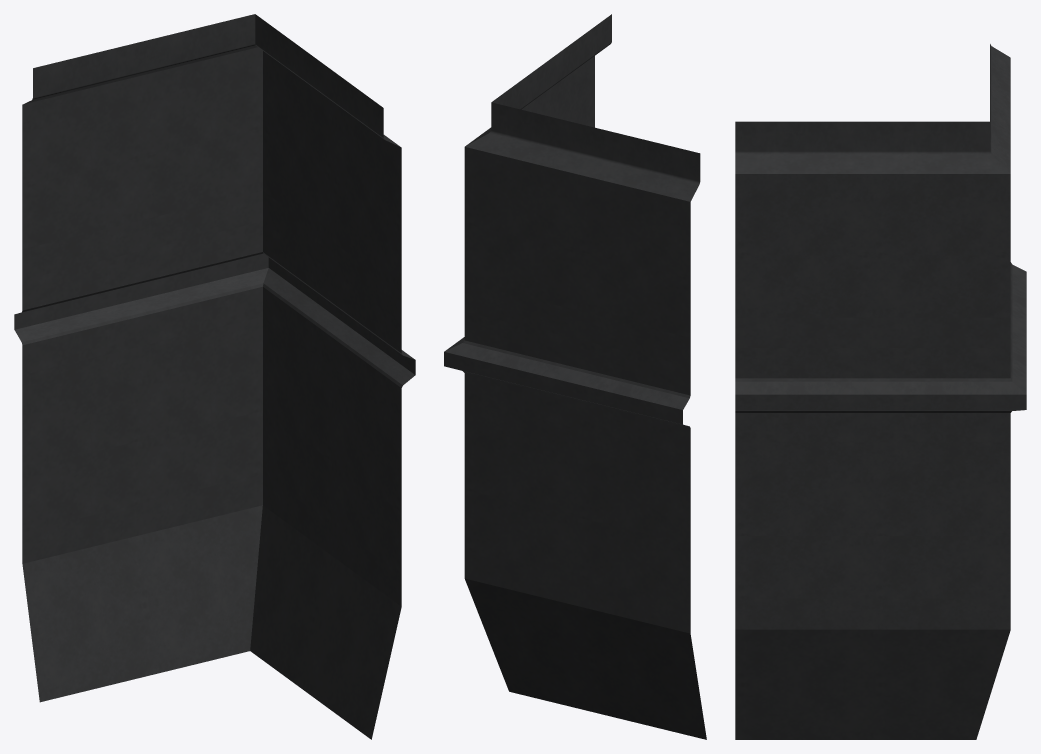
The model's file is M_Wall_Concave_Corner_4x10_v2.fbx.
The picture shows the model from 3 angles, left to right: view 1: azimuth 30°, elevation 25°; view 2: azimuth 150°, elevation 25°; view 3: azimuth 270°, elevation 25°; orthographic projection. The views are drawn at different scales.
Parts seen in each view (by area): view 1: Wall_Corner_Concave_4x10_v2; view 2: Wall_Corner_Concave_4x10_v2; view 3: Wall_Corner_Concave_4x10_v2.
Part boxes in pixels (x1,y1,x2,y2): Wall_Corner_Concave_4x10_v2: [14, 14, 415, 739]; Wall_Corner_Concave_4x10_v2: [444, 14, 706, 739]; Wall_Corner_Concave_4x10_v2: [735, 44, 1026, 739].
Bounding box in the file's own units: 423 × 1000 × 423.
